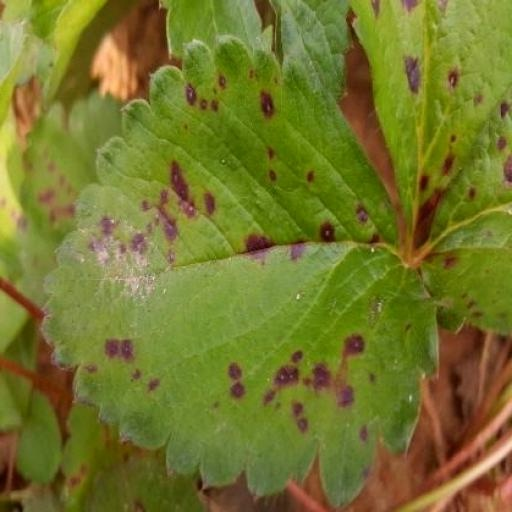Leaf Spot: (71, 34, 472, 511), (388, 89, 500, 308), (0, 83, 95, 335), (299, 441, 430, 511), (386, 404, 454, 511), (486, 122, 511, 286)
